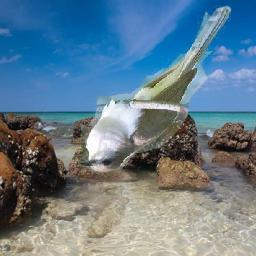Cuckoo: (78, 5, 232, 173)
